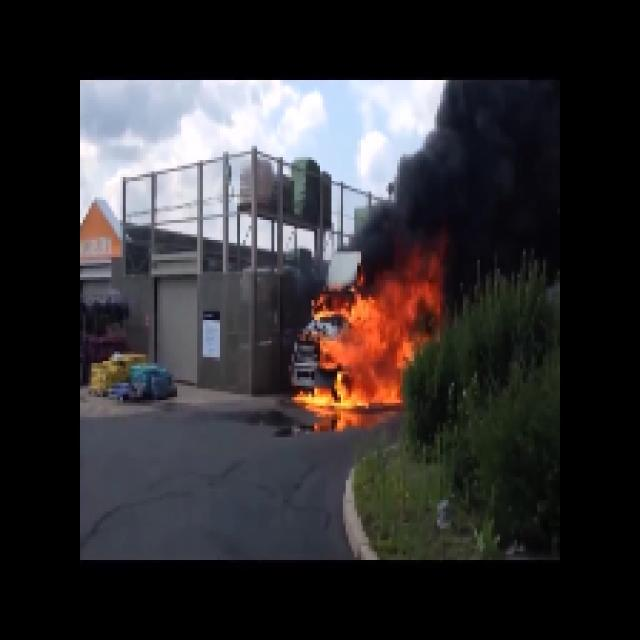fire: (312, 287, 425, 412)
smoke: (368, 93, 544, 245)
